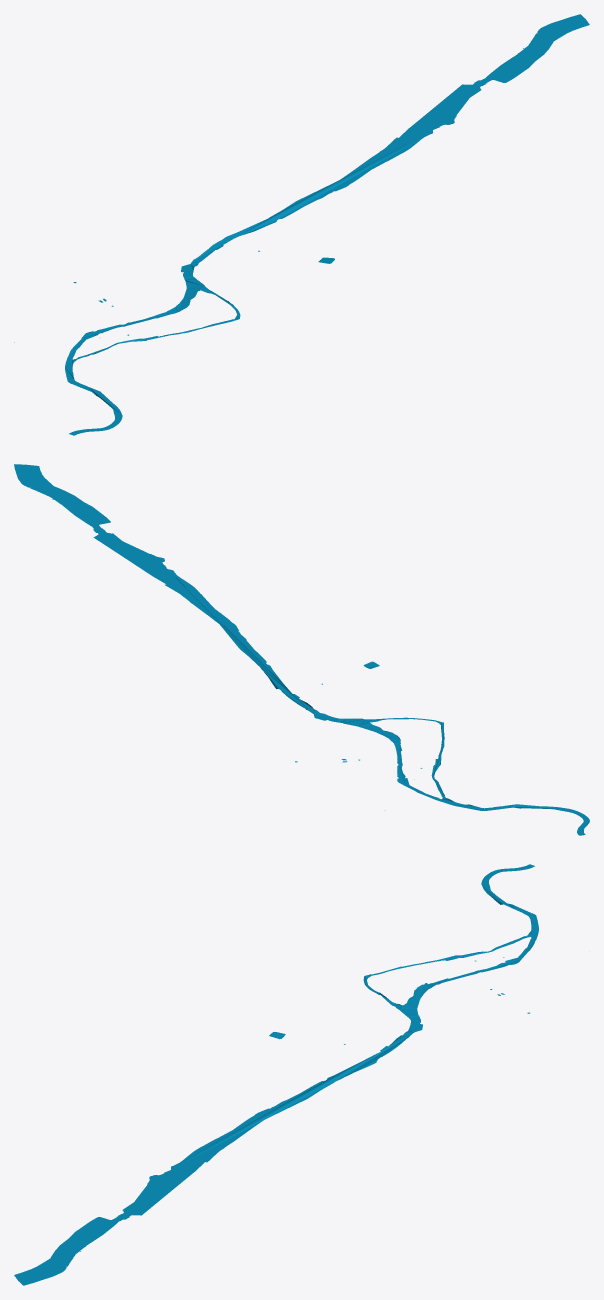
Rendered from water.glb.
The picture shows the model from 3 angles, top to bottom: view 1: azimuth 90°, elevation 25°; view 2: azimuth 150°, elevation 25°; view 3: azimuth 270°, elevation 25°; orthographic projection. The views are drawn at different scales.
Visible parts, largest first — view 1: water; view 2: water; view 3: water.
Part boxes in pixels (bbox=[...]): water: bbox=[14, 14, 589, 435]; water: bbox=[14, 464, 589, 835]; water: bbox=[14, 864, 538, 1285].
Bounding box in the file's own units: 7163 × 28.86 × 4135.
